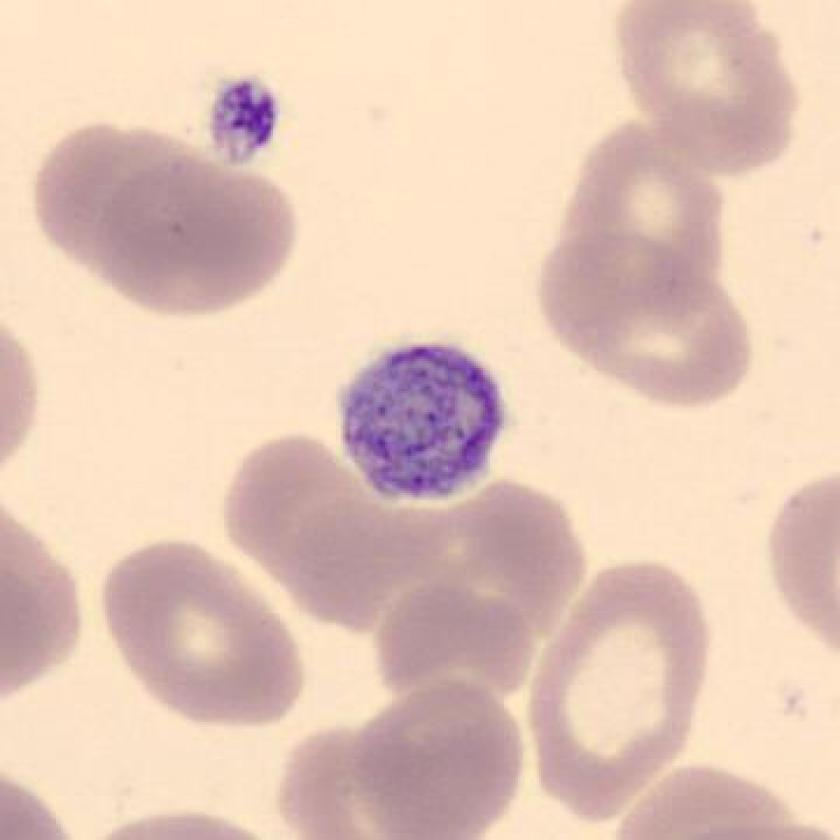platelets: (330, 337, 512, 513), (204, 68, 290, 172)
